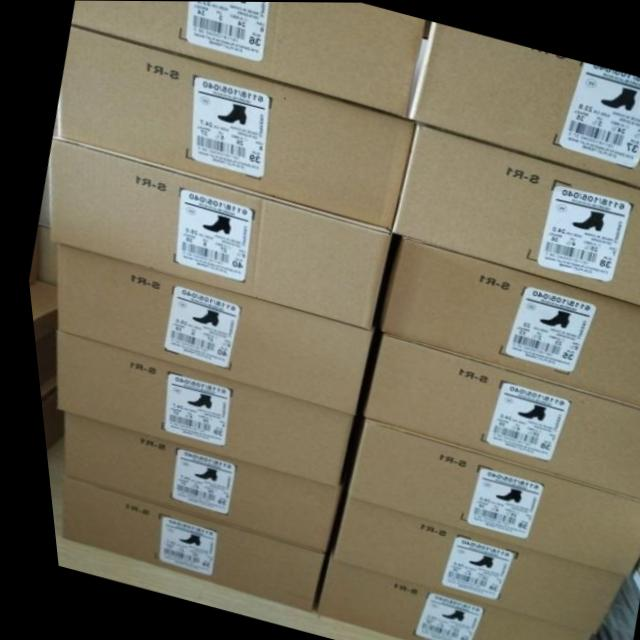box: (54, 26, 414, 227), (45, 136, 387, 330), (46, 240, 362, 415), (355, 337, 640, 504), (372, 232, 640, 409), (337, 420, 640, 576), (387, 123, 640, 308), (49, 333, 344, 487), (71, 0, 427, 116), (321, 494, 612, 632), (406, 23, 640, 189), (54, 413, 329, 549), (51, 477, 309, 609), (302, 559, 578, 640), (23, 276, 49, 388), (32, 384, 53, 450)
